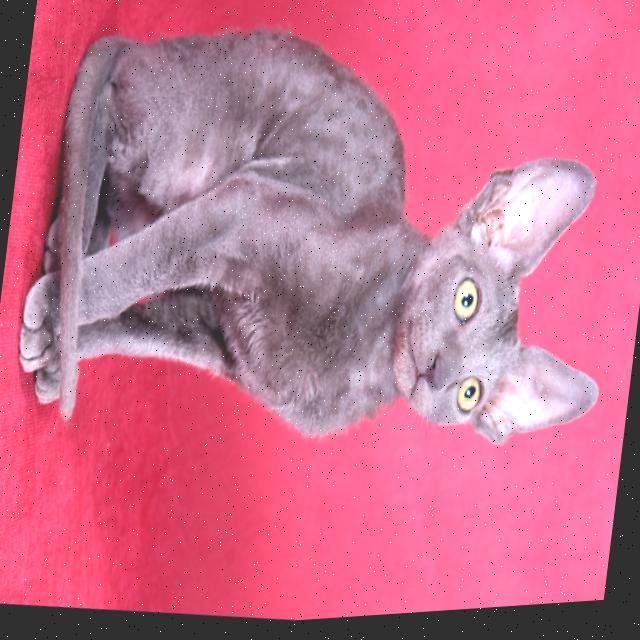Cornish Rex: (1, 0, 640, 506)
